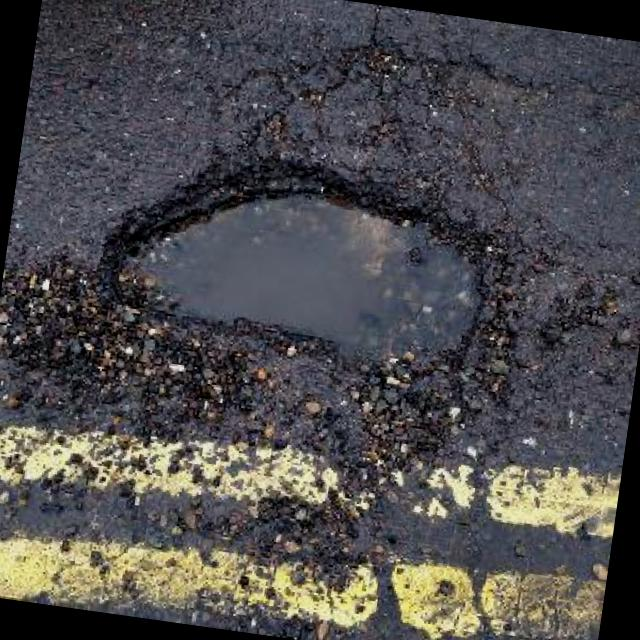Lubang: (127, 195, 477, 353)
